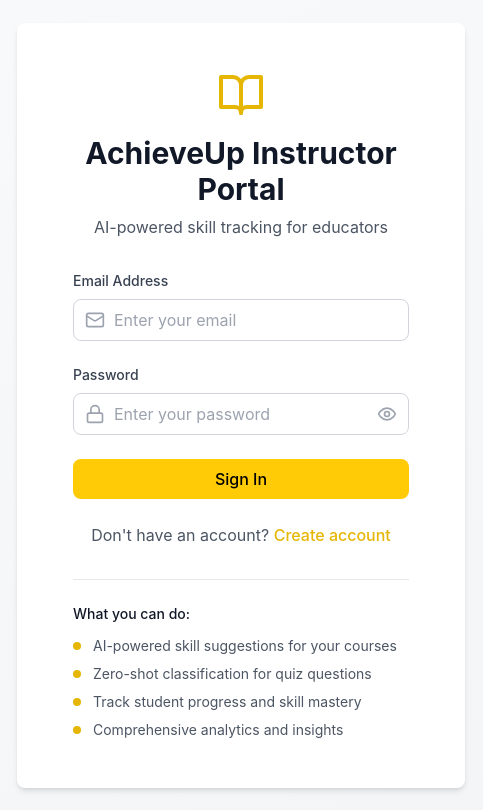
Test: Login Component › clears form validation errors on input change
// Trigger validation error
Click the button "Sign In": click(241, 478) [73,458,409,498]
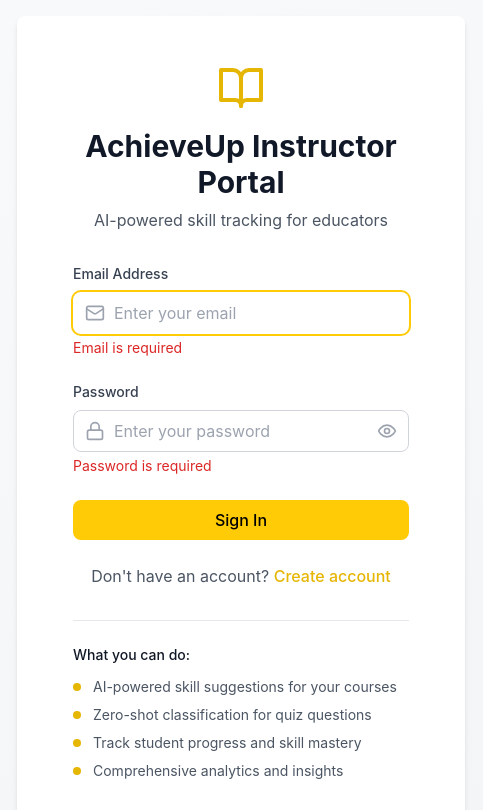
Expected: the text "Email is required" is shown, [73,339,182,356]
// Type in email field
In the field with placeholder "Enter your email": (241, 313) [73,292,409,334], type "test@example.com"
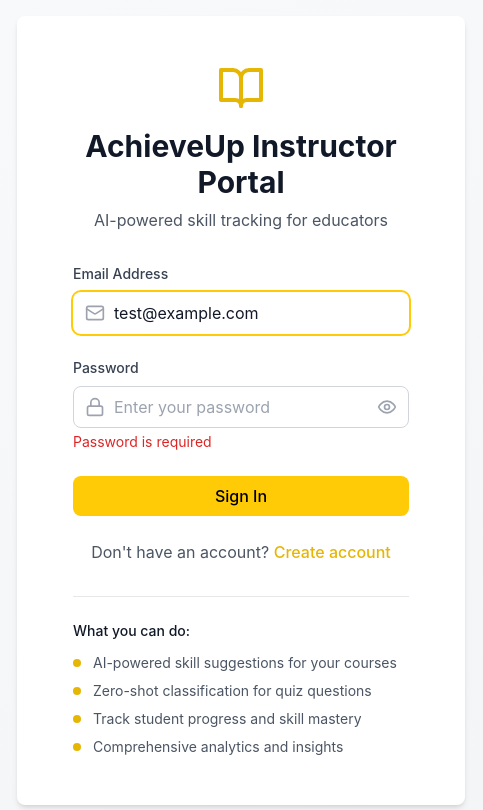
Expected: the text "Email is required" is gone
